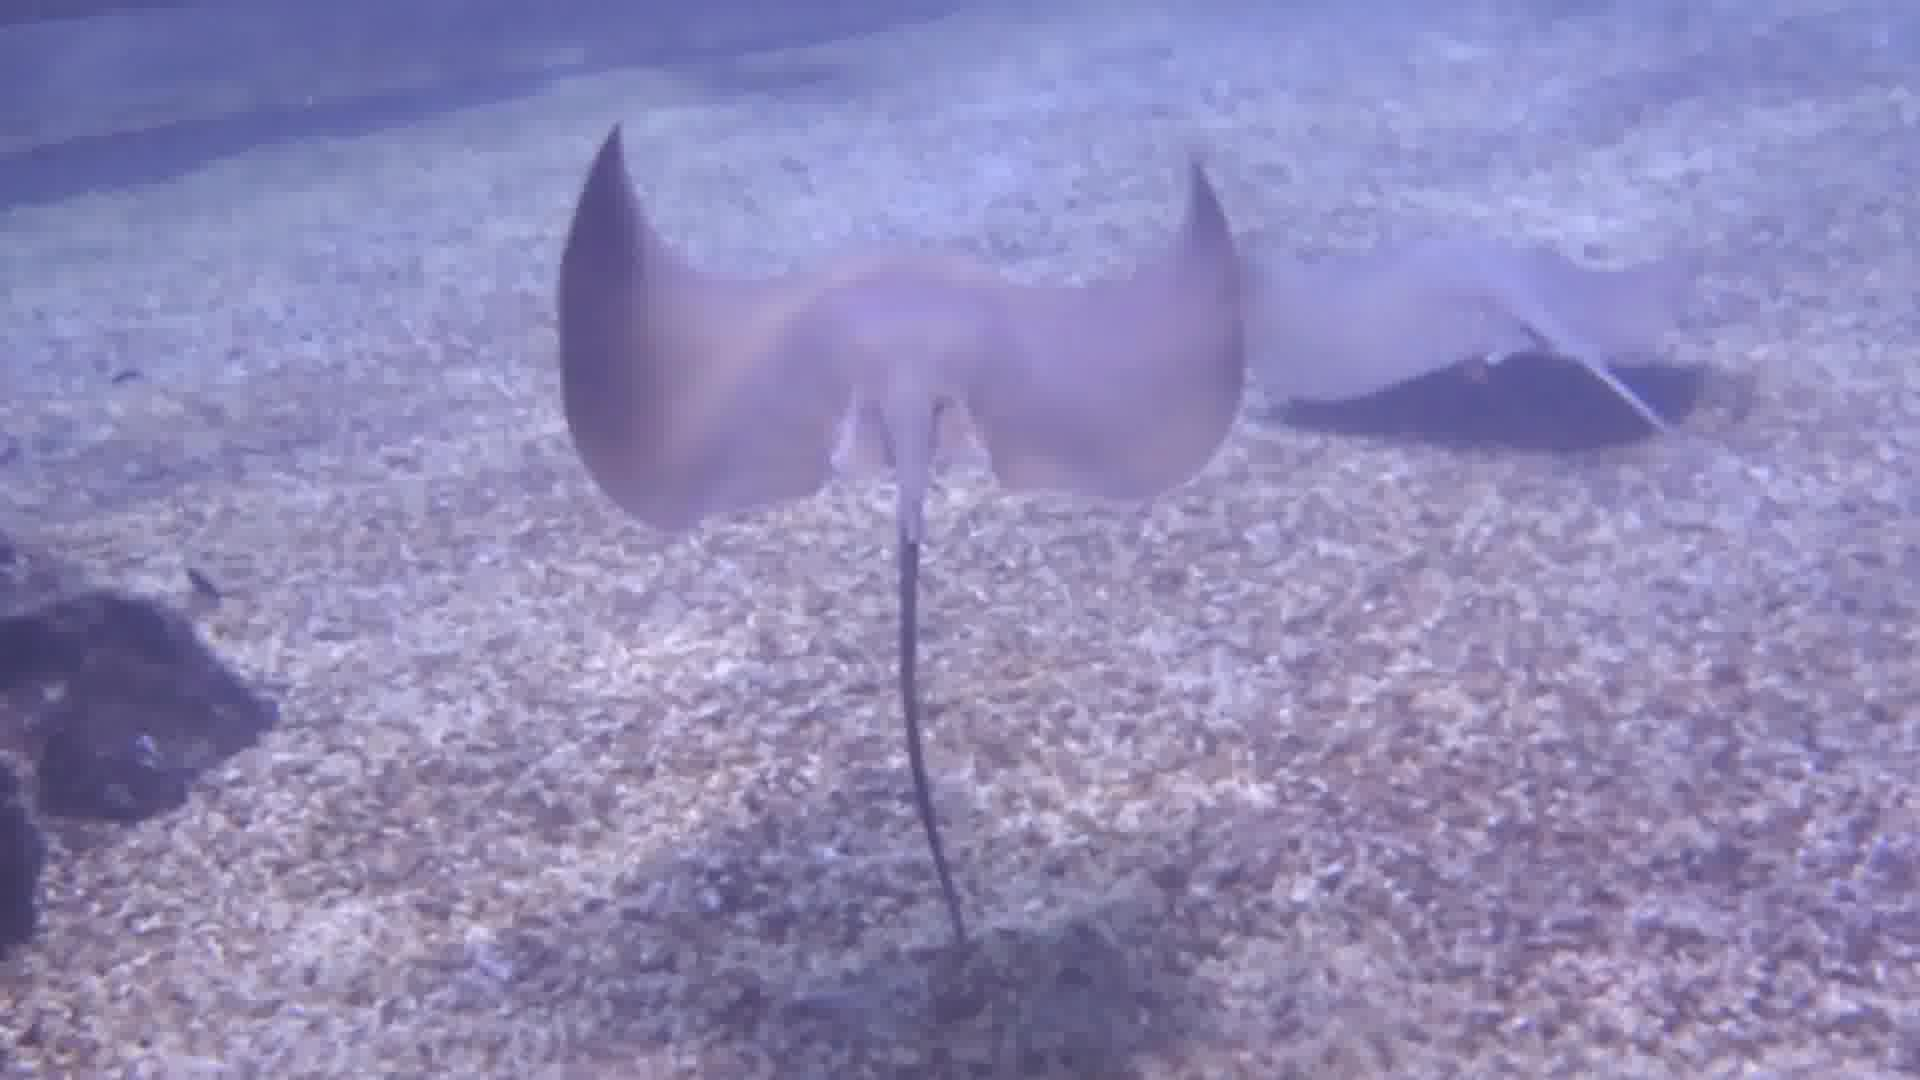Dasyatis akajei: (421, 115, 1369, 945)
